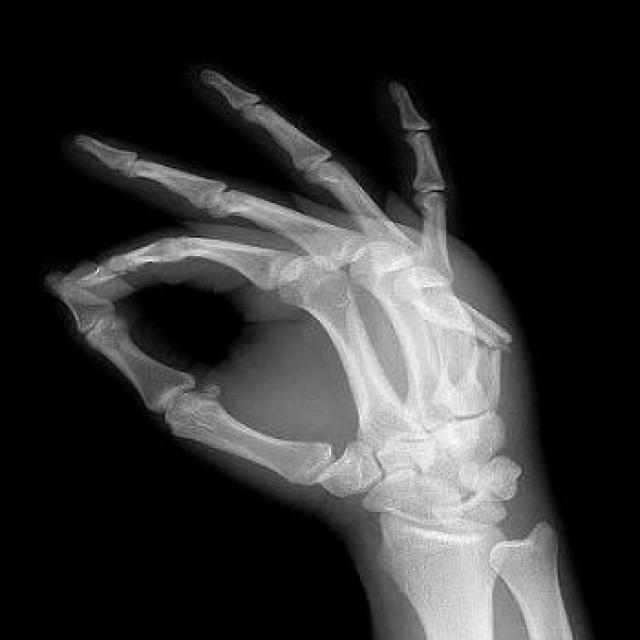Fracture: (470, 310, 518, 366)
